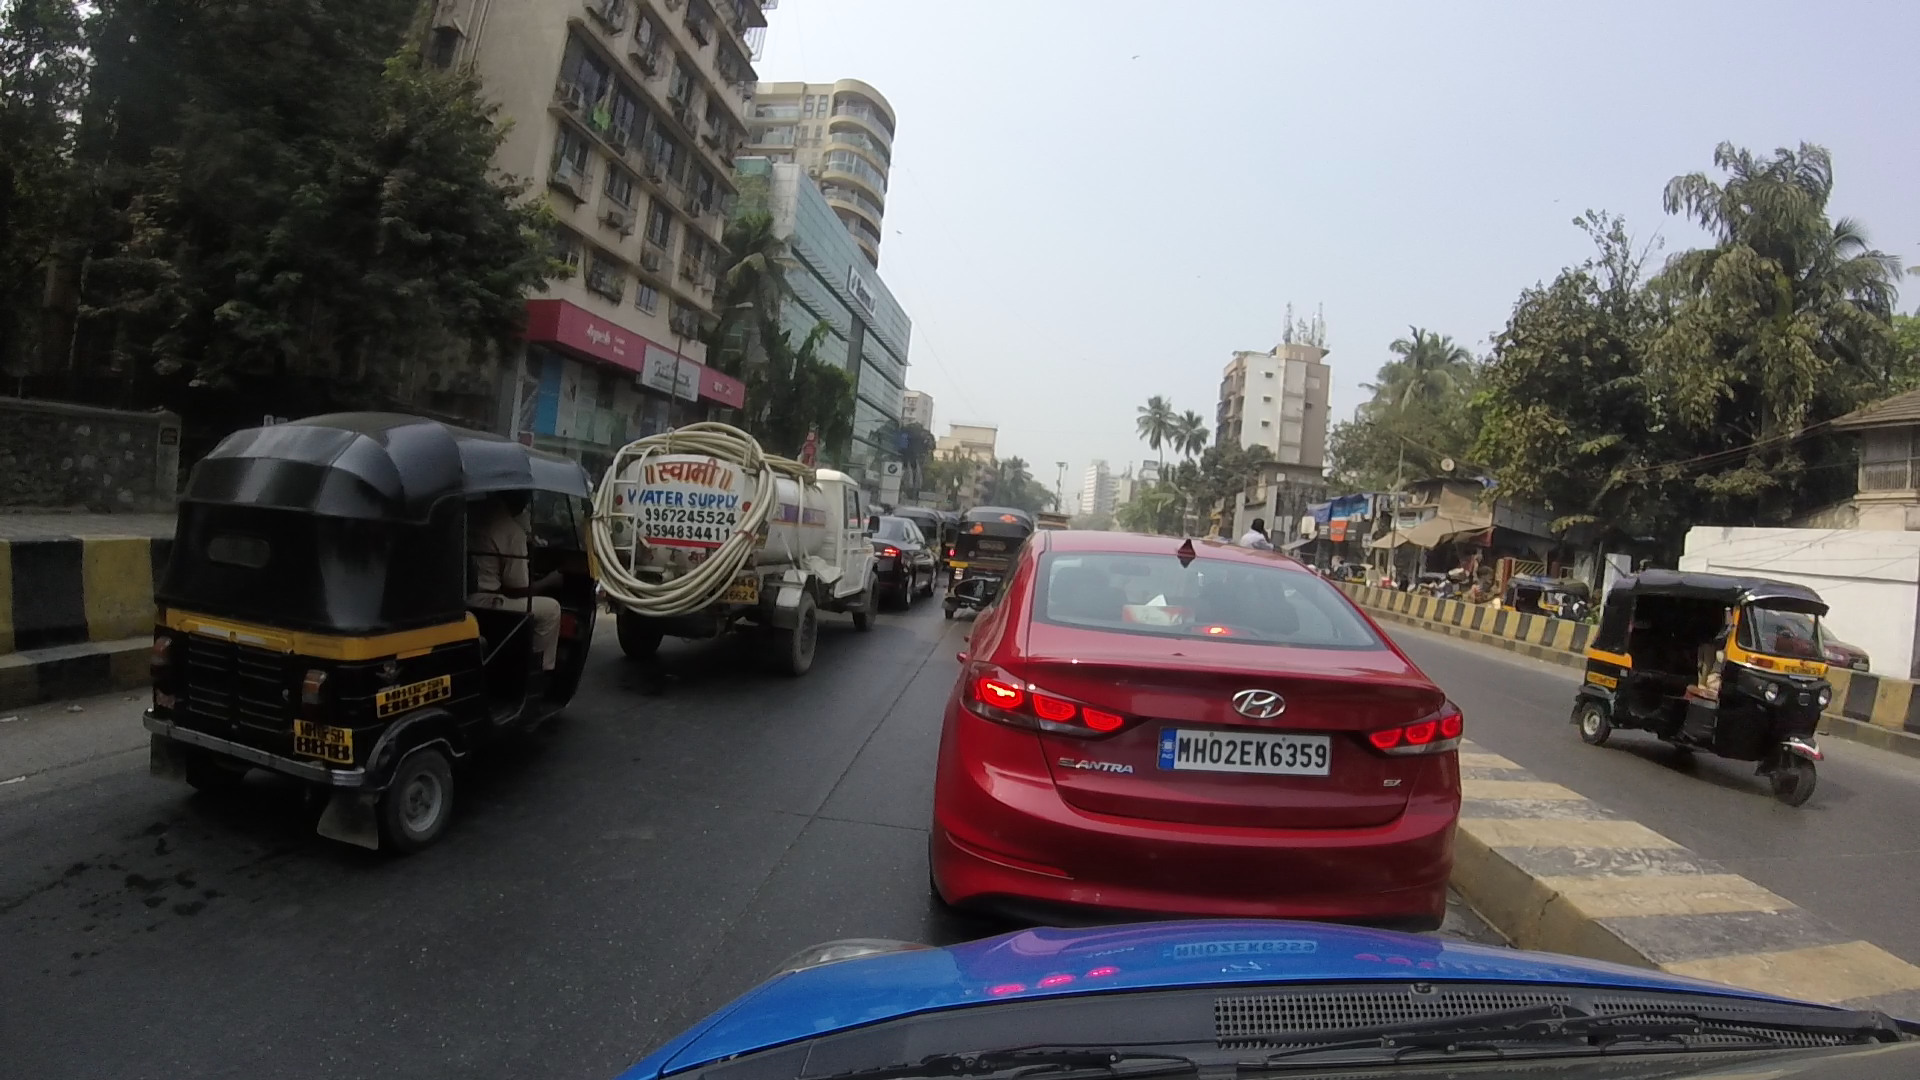car: (945, 524, 1462, 930)
rickshaw: (158, 411, 608, 862), (1561, 563, 1825, 798), (940, 506, 1022, 618)
truck: (628, 439, 878, 673)
